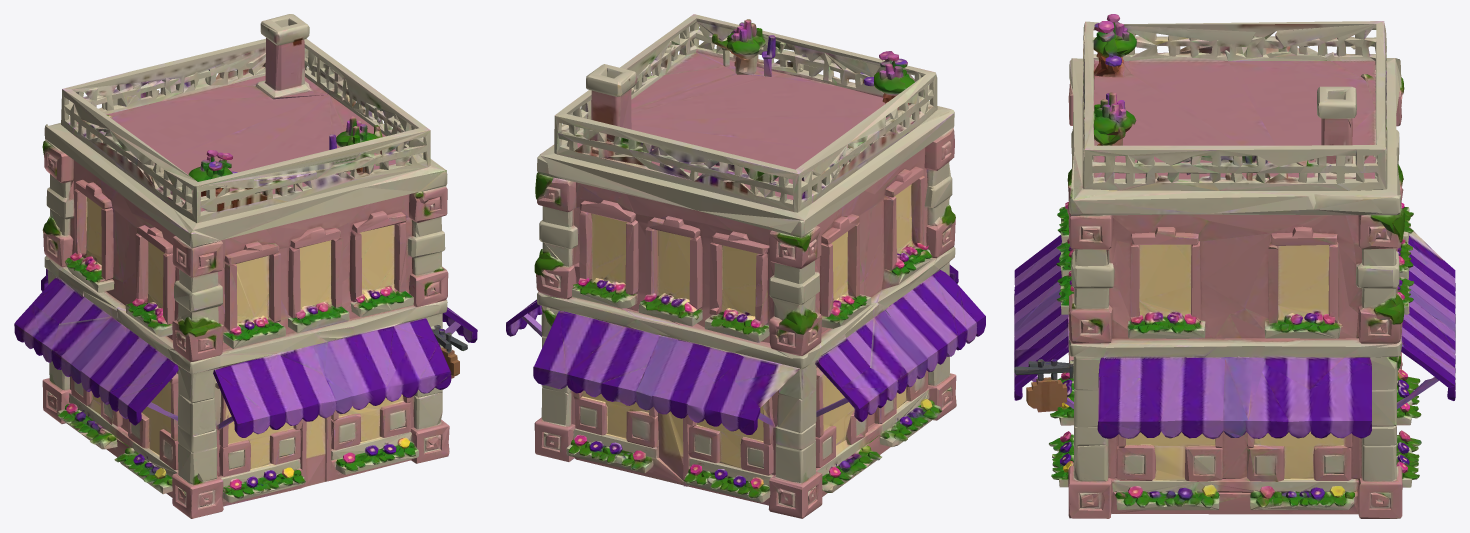
File: street_b4.glb
3 views of the same model, side by side, from view 1: azimuth 30°, elevation 25°; view 2: azimuth 150°, elevation 25°; view 3: azimuth 270°, elevation 25° (orthographic). The views are drawn at different scales.
Parts seen in each view (by area): view 1: building_b4_cafe; view 2: building_b4_cafe; view 3: building_b4_cafe.
Part boxes in pixels (x1,y1,x2,y2): building_b4_cafe: (14, 14, 477, 518); building_b4_cafe: (506, 14, 985, 518); building_b4_cafe: (1014, 14, 1455, 518).
Bounding box in the file's own units: 6.99 × 7 × 6.99.
Materials: 1 (1 with a texture image).
